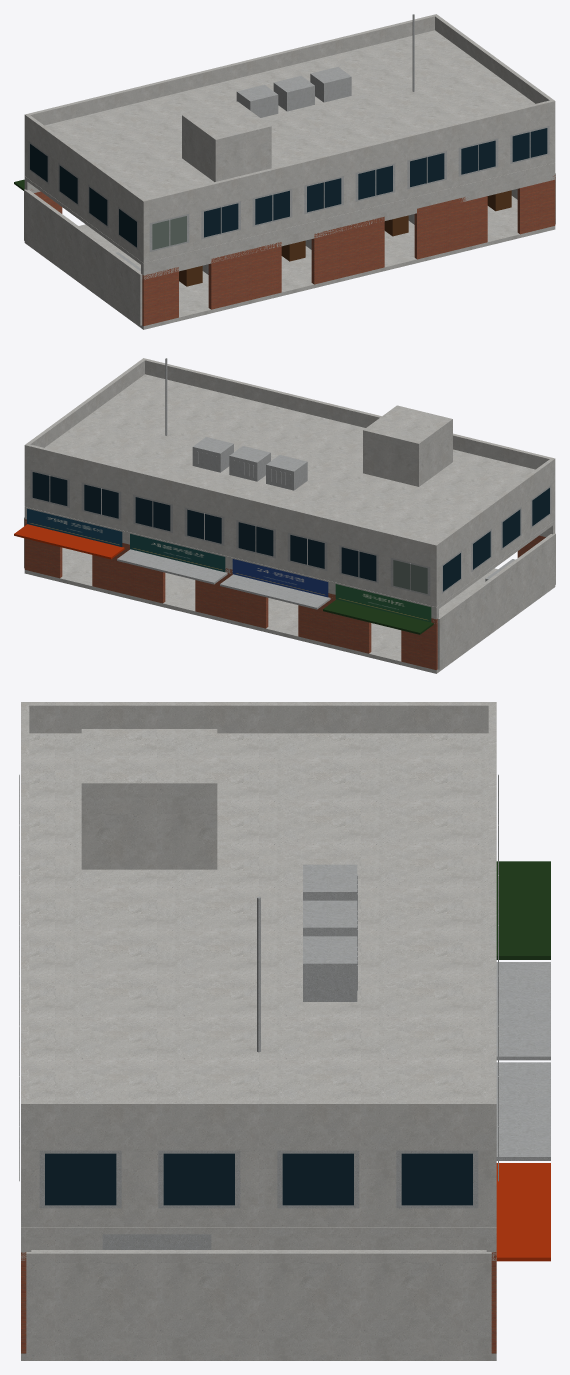
File: retail_row.obj
3 views of the same model, one above another, from view 1: azimuth 30°, elevation 25°; view 2: azimuth 150°, elevation 25°; view 3: azimuth 270°, elevation 25° (orthographic). The views are drawn at different scales.
Visible parts, largest first — view 1: Warm_Plaster, Concrete, Brick, Window_Glass, Interior_Floor, Dark_Frame, AC_White, Wood, Window_Light; view 2: Warm_Plaster, Concrete, Brick, Window_Glass, Interior_Floor, Sign_Atlas, Dark_Frame, AC_White, Roof_Metal, Foliage, Industrial_Blue, Orange (+1 smaller); view 3: Warm_Plaster, Concrete, Window_Glass, AC_White, Dark_Frame, Orange, Foliage, Roof_Metal, Industrial_Blue, Interior_Floor, Brick.
Boxes of the visible parts, bbox=[...] form: Warm_Plaster: bbox=[24, 30, 555, 325]; Concrete: bbox=[24, 14, 555, 265]; Brick: bbox=[25, 175, 555, 326]; Window_Glass: bbox=[30, 128, 547, 247]; Interior_Floor: bbox=[24, 196, 555, 329]; Dark_Frame: bbox=[28, 126, 549, 251]; AC_White: bbox=[115, 67, 351, 271]; Wood: bbox=[179, 190, 511, 286]; Window_Light: bbox=[152, 216, 186, 249]; Warm_Plaster: bbox=[24, 374, 555, 669]; Concrete: bbox=[24, 358, 555, 610]; Brick: bbox=[24, 519, 545, 670]; Window_Glass: bbox=[32, 472, 549, 591]; Interior_Floor: bbox=[24, 547, 555, 673]; Sign_Atlas: bbox=[27, 508, 431, 622]; Dark_Frame: bbox=[30, 451, 551, 595]; AC_White: bbox=[192, 437, 515, 581]; Roof_Metal: bbox=[117, 549, 227, 584]; Foliage: bbox=[323, 599, 433, 634]; Industrial_Blue: bbox=[220, 574, 330, 609]; Orange: bbox=[14, 524, 124, 559]; Warm_Plaster: bbox=[21, 729, 496, 1355]; Concrete: bbox=[21, 702, 496, 1234]; Window_Glass: bbox=[45, 1153, 472, 1205]; AC_White: bbox=[102, 864, 357, 1249]; Dark_Frame: bbox=[19, 774, 498, 1208]; Orange: bbox=[496, 1163, 550, 1261]; Foliage: bbox=[496, 861, 550, 959]; Roof_Metal: bbox=[496, 1062, 550, 1160]; Industrial_Blue: bbox=[496, 962, 550, 1060]; Interior_Floor: bbox=[21, 1353, 496, 1360]; Brick: bbox=[21, 1252, 496, 1353].
Size of the model in its own units: 28.25 by 12.44 by 15.66.
